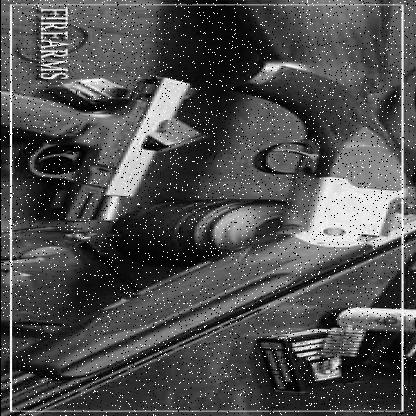rifle: (26, 6, 416, 392)
